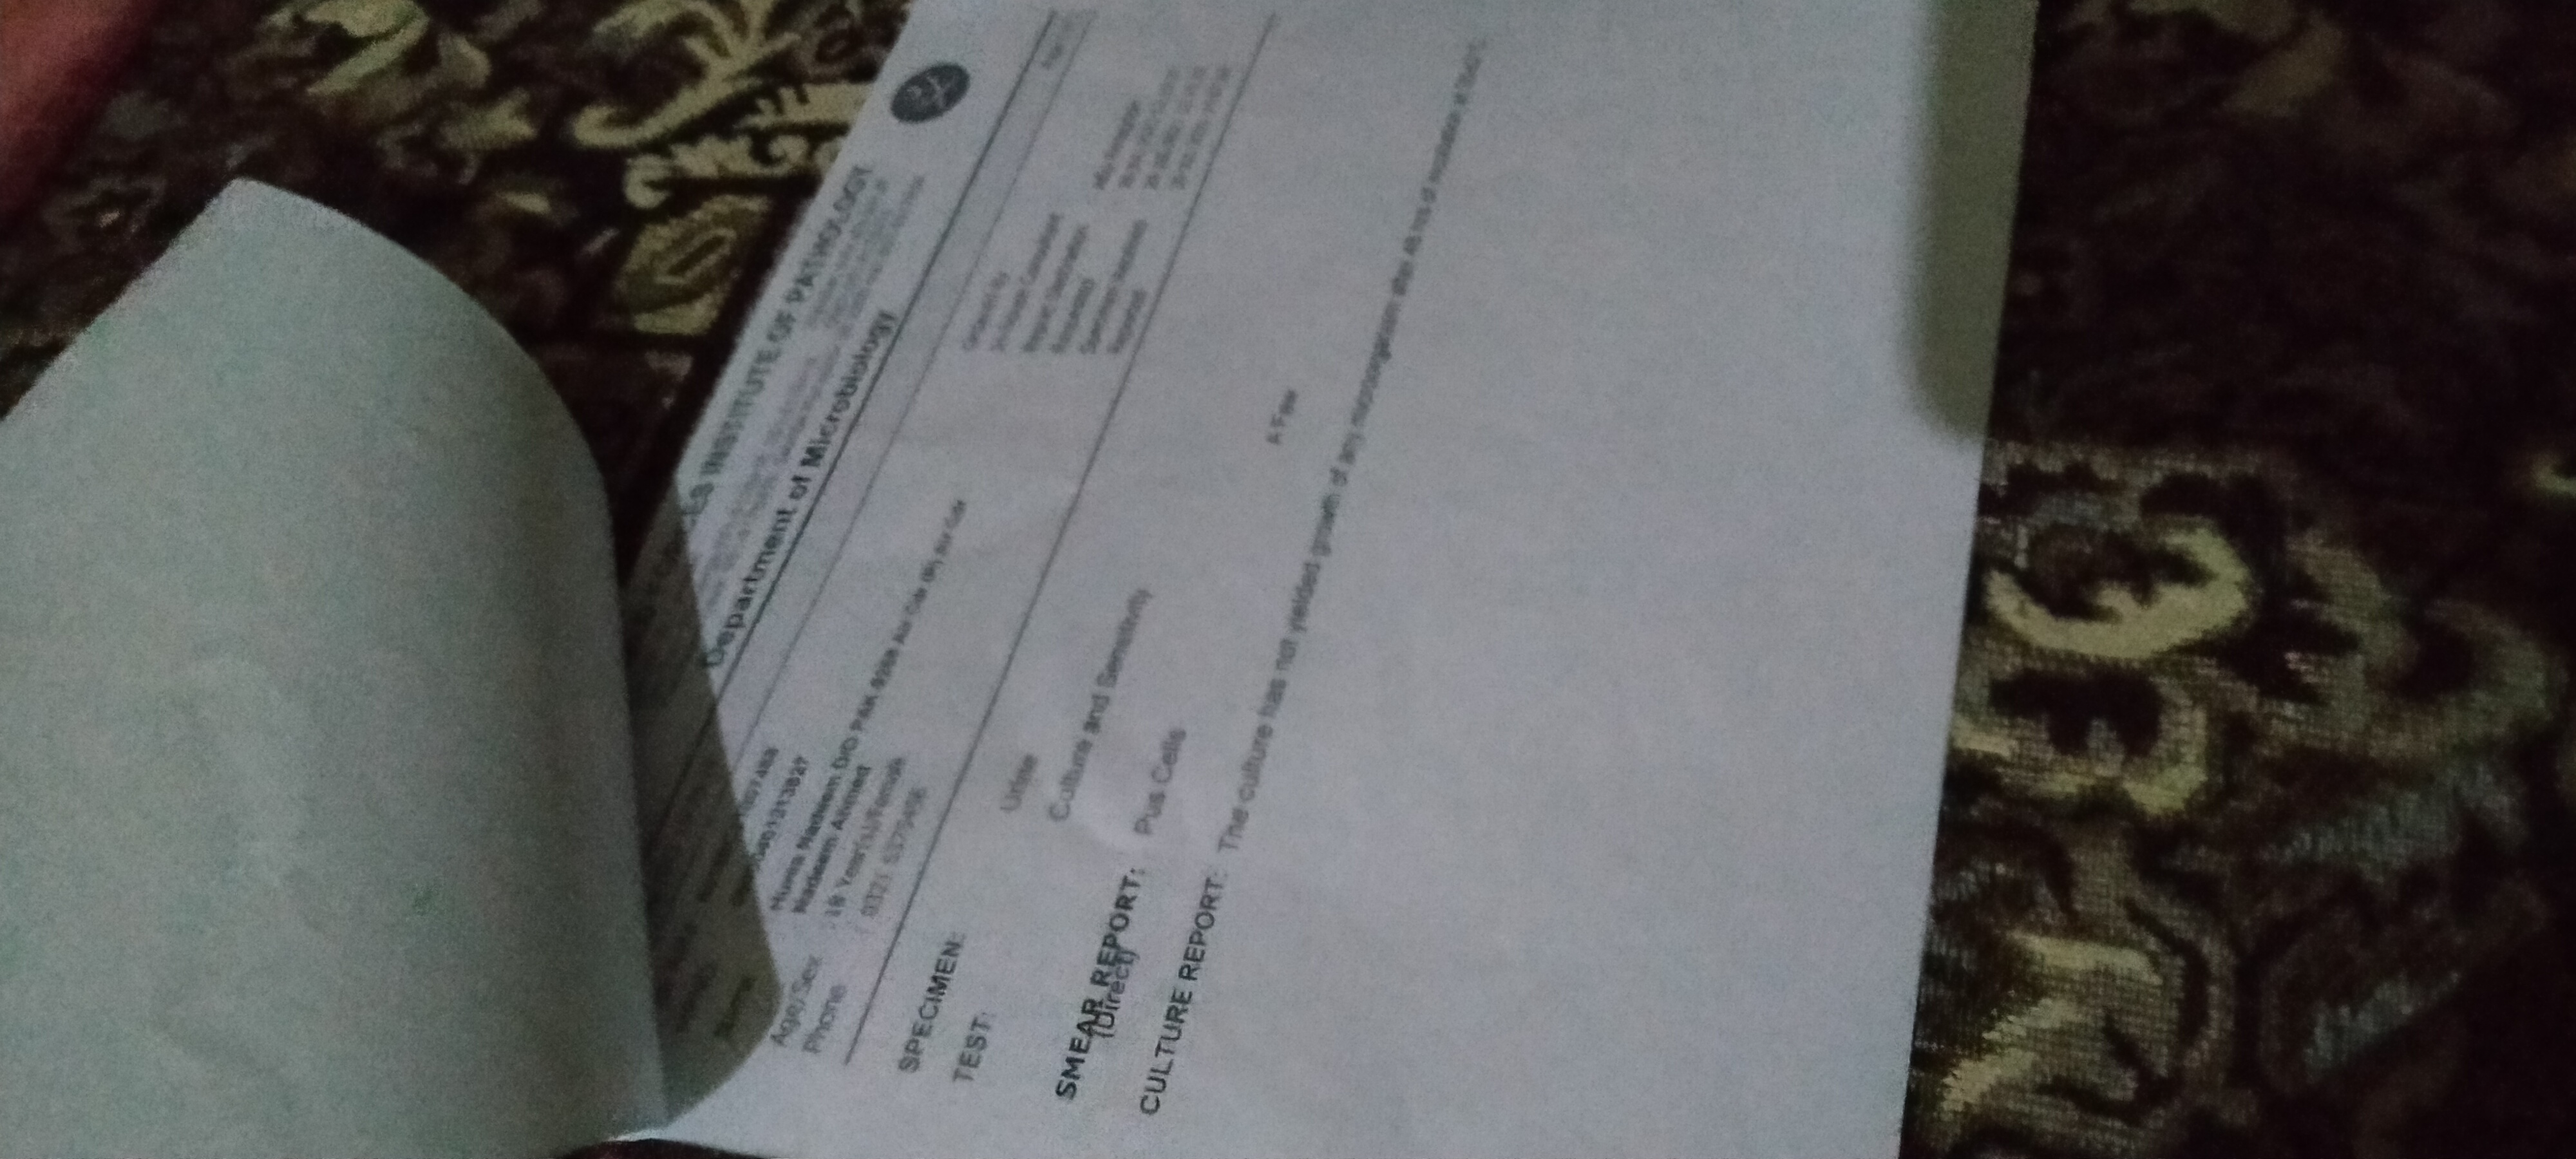report: (848, 13, 1492, 1138)
